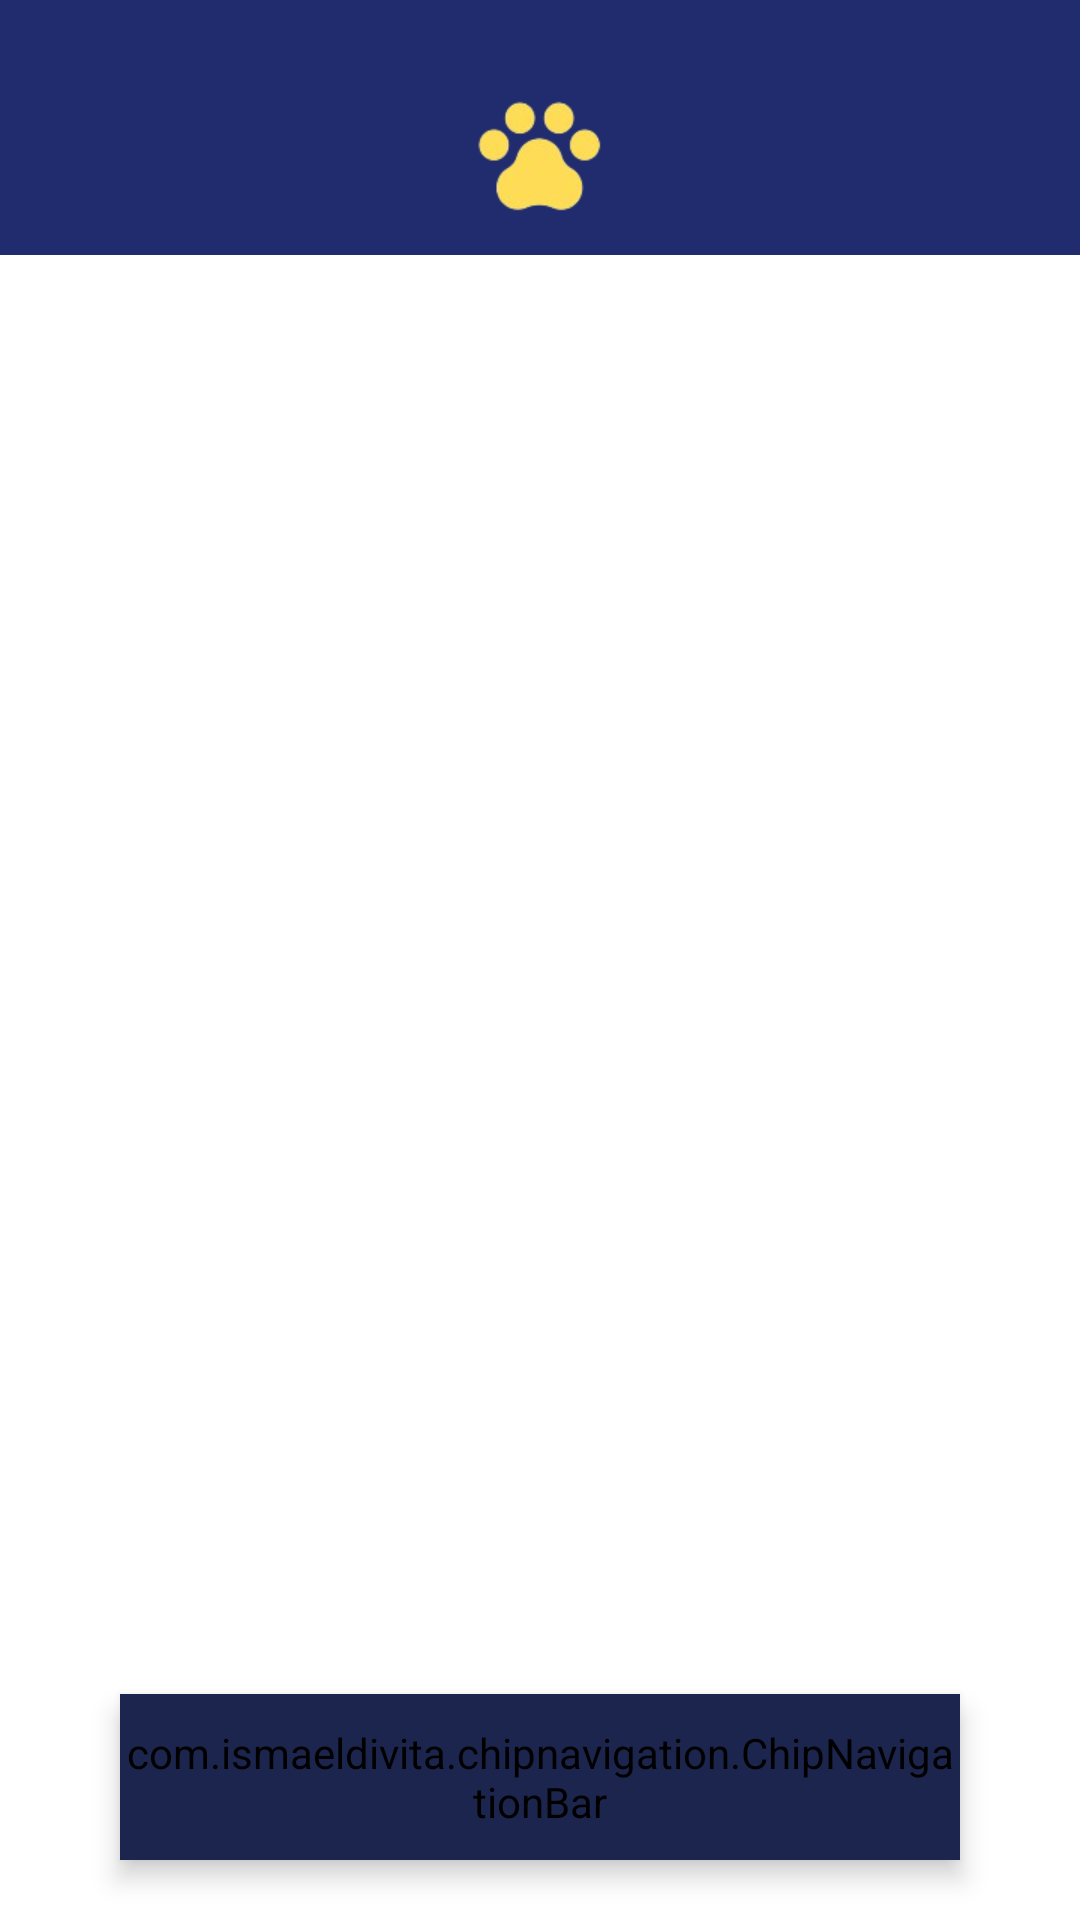

Named icons in this screenshot (1080w x 1920h) and their centers, [x,y]:
paw: [539,156]
